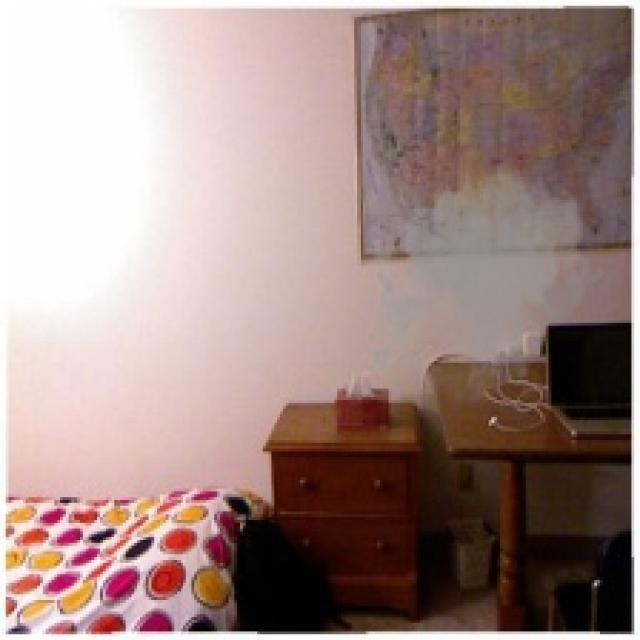smoke: (360, 157, 609, 412)
